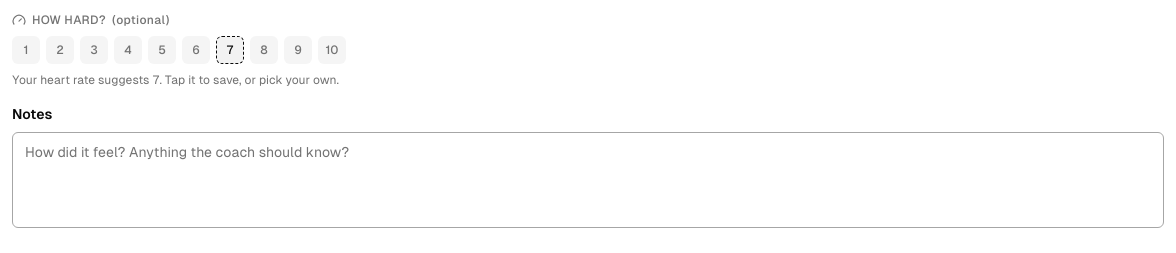
Test: WorkoutEffortNotes › marks the heart-rate suggestion, and saves it only when the athlete taps it
Expected: the text with test id "text-rpe-suggestion" shows "Your heart rate suggests 7", [12,73,339,87]
Click the radio button with test id "button-rpe-7". click: click(230, 50)
box: [216,36,244,64]
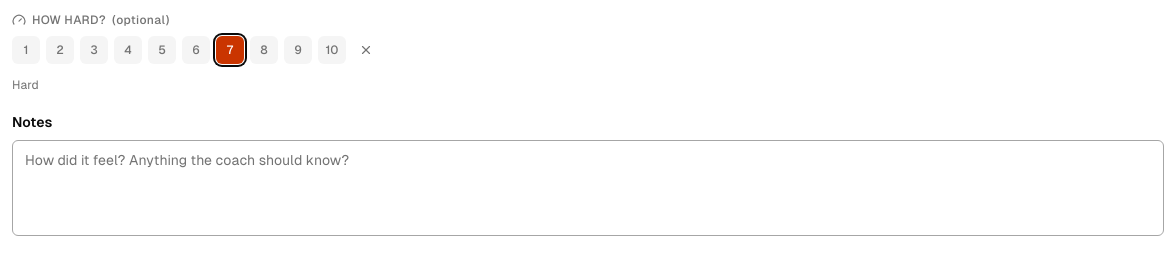
Expected: the text with test id "text-rpe-suggestion" is gone
